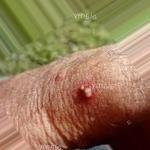Ants: (75, 79, 95, 103)
